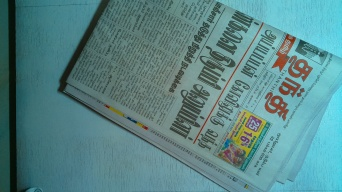p: (59, 1, 335, 188)
